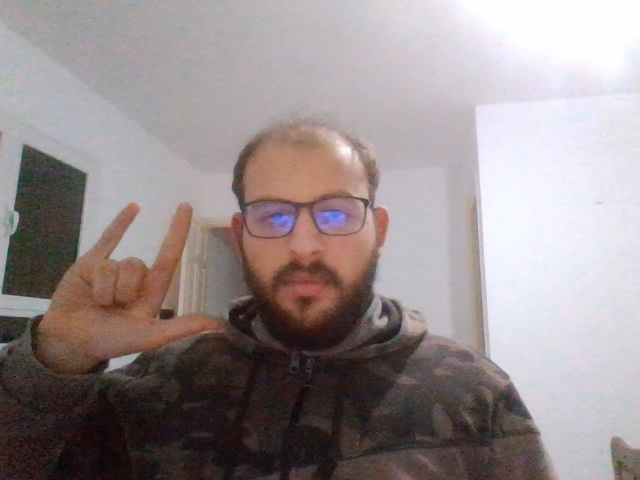I Love You: (58, 198, 221, 354)
